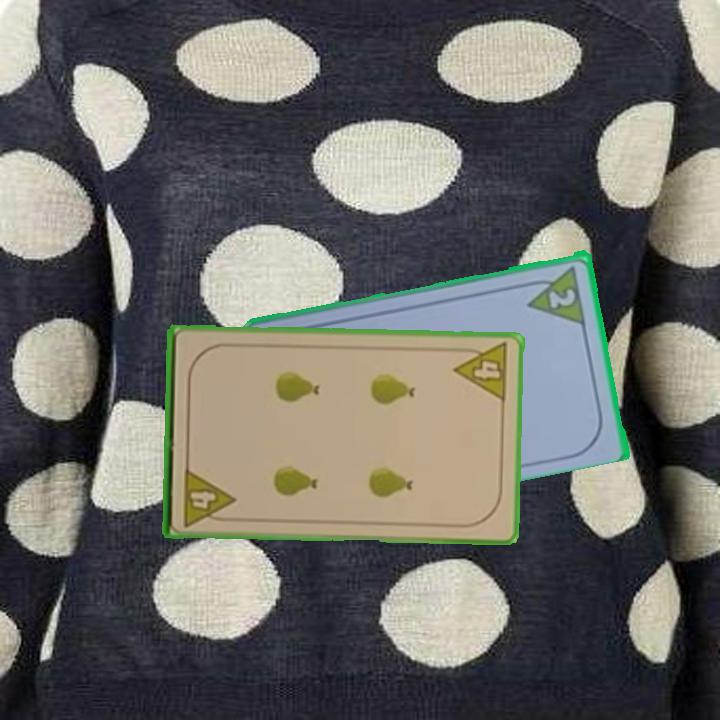2p: (521, 261, 589, 326)
4p: (451, 339, 512, 404), (179, 464, 237, 529)
